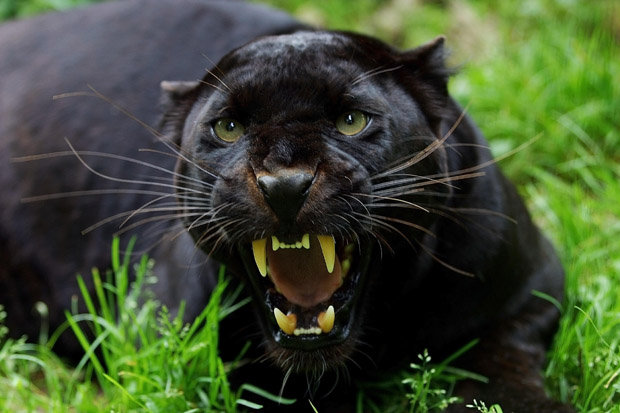panther: (1, 1, 567, 411)
